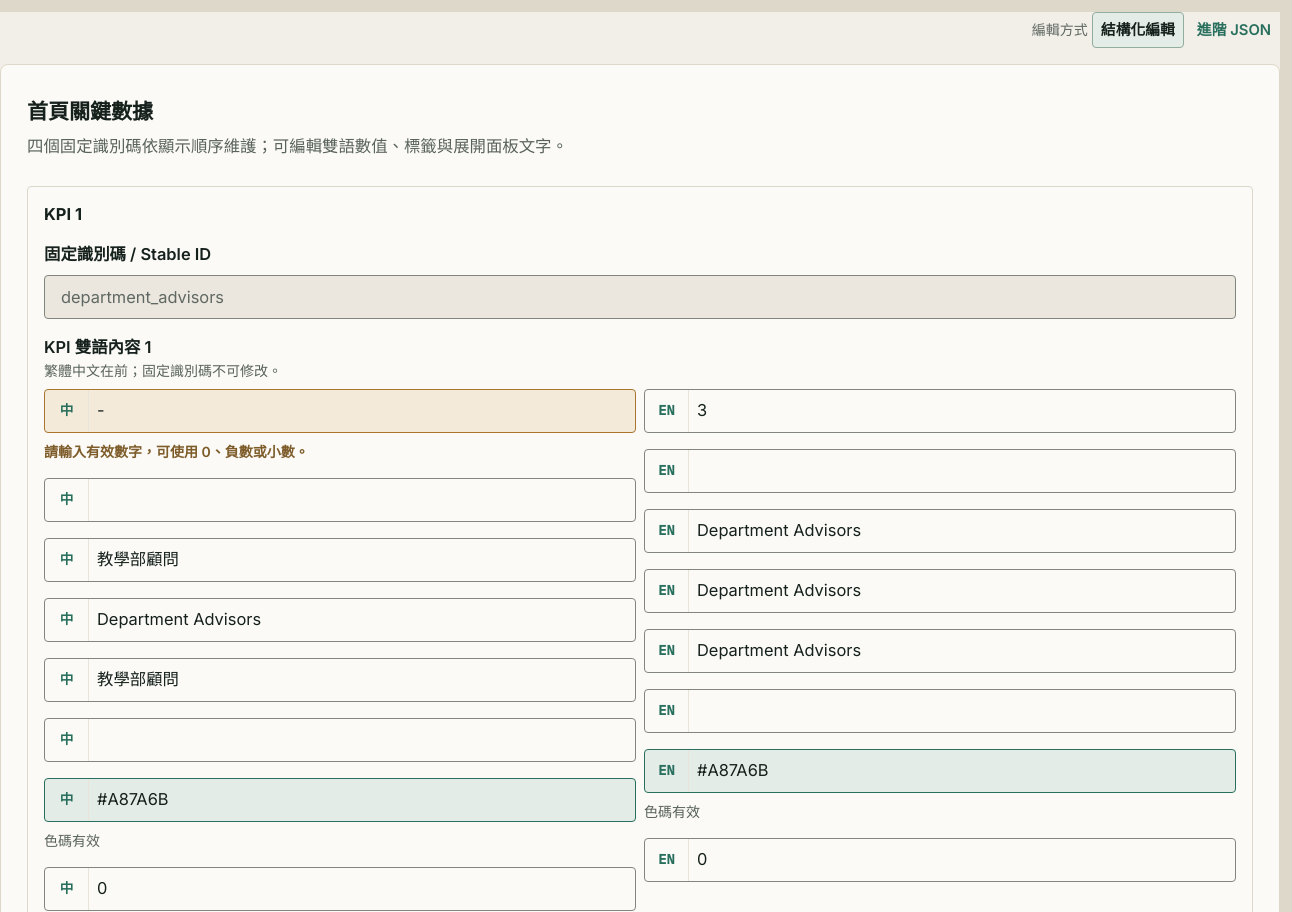
Test: KPI drafts through the global document workspace › replaces numeric draft text with a strict number without changing siblings
This screenshot has width=1292, height=912.
Replace the text in the 1st field named "繁體中文數值" with "-2.75". click: (340,410)
box: [44,388,636,432]
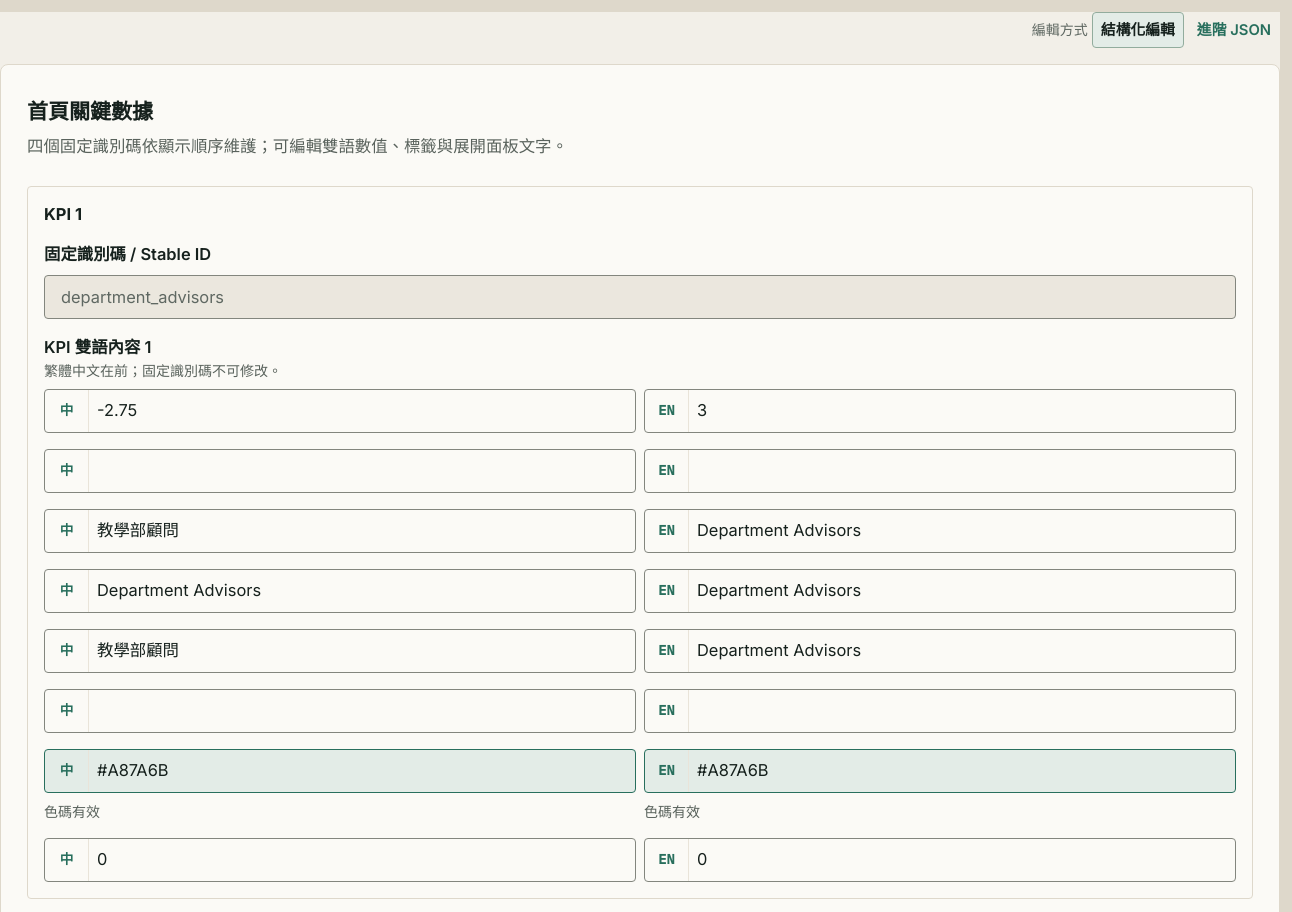
Check: the message "請輸入有效數字，可使用 0、負數或小數。" is gone
